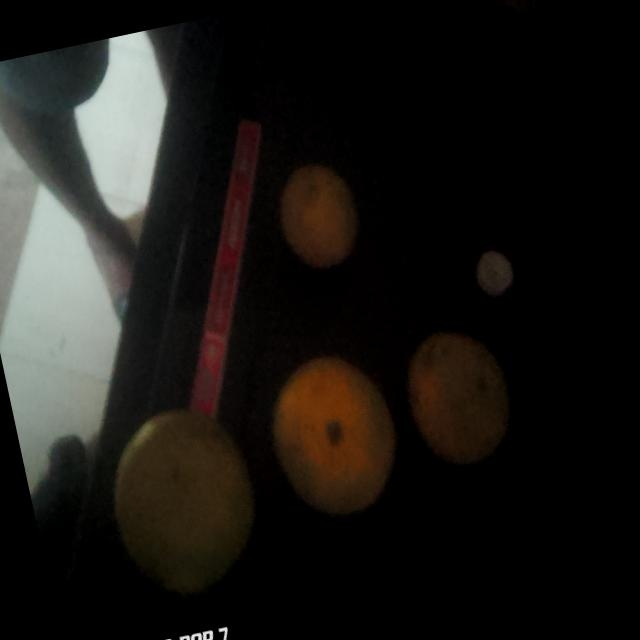agrume: (92, 394, 270, 604), (259, 346, 409, 522), (394, 322, 518, 474), (268, 154, 364, 282)
